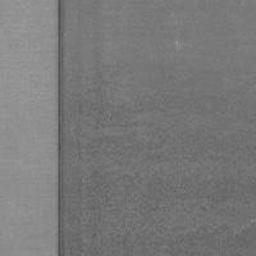Welding line: (56, 0, 64, 256)
